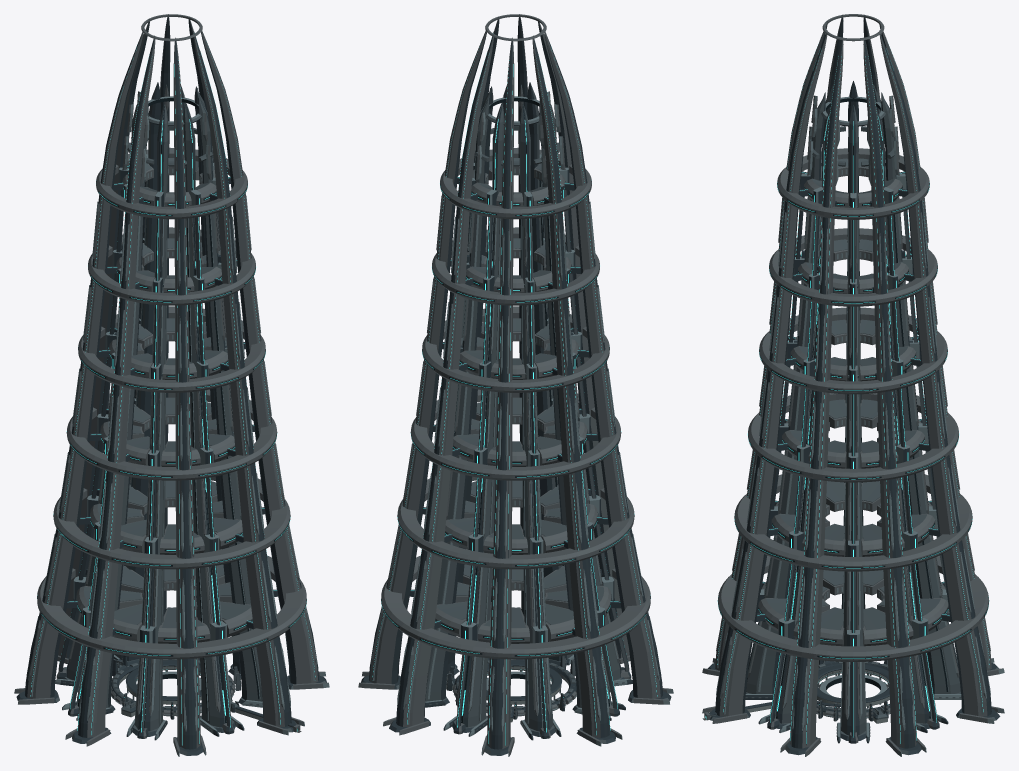
File: Main_Spire_Outer_Ring_Godot.glb
The picture shows the model from 3 angles, left to right: view 1: azimuth 30°, elevation 25°; view 2: azimuth 150°, elevation 25°; view 3: azimuth 270°, elevation 25°; orthographic projection.
Parts seen in each view (by area): view 1: Outer_Arm_07_Main_Monolith, Outer_Arm_05_Main_Monolith, Outer_Arm_04_Main_Monolith, Outer_Arm_06_Main_Monolith, Outer_Arm_08_Main_Monolith, Outer_Connector_Ring_Stage_01, Arm_07_Faceted_Monolith, Arm_08_Faceted_Monolith, Arm_06_Faceted_Monolith, Outer_Connector_Ring_Stage_02, Outer_Arm_03_Main_Monolith, Outer_Connector_Ring_Stage_03 (+22 smaller); view 2: Outer_Arm_02_Main_Monolith, Outer_Arm_04_Main_Monolith, Outer_Arm_05_Main_Monolith, Outer_Arm_03_Main_Monolith, Outer_Arm_01_Main_Monolith, Outer_Connector_Ring_Stage_01, Arm_03_Faceted_Monolith, Arm_02_Faceted_Monolith, Arm_04_Faceted_Monolith, Outer_Connector_Ring_Stage_02, Outer_Arm_06_Main_Monolith, Outer_Connector_Ring_Stage_03 (+22 smaller); view 3: Outer_Arm_02_Main_Monolith, Outer_Arm_07_Main_Monolith, Outer_Arm_01_Main_Monolith, Outer_Arm_08_Main_Monolith, Outer_Connector_Ring_Stage_01, Arm_03_Faceted_Monolith, Arm_07_Faceted_Monolith, Outer_Connector_Ring_Stage_02, Arm_01_Faceted_Monolith, Outer_Connector_Ring_Stage_03, Outer_Connector_Ring_Stage_04, Outer_Connector_Ring_Stage_05 (+23 smaller).
Part boxes in pixels (x1,y1,x2,y2): Outer_Arm_07_Main_Monolith: (194,33,291,725); Outer_Arm_05_Main_Monolith: (78,35,155,737); Outer_Arm_04_Main_Monolith: (25,27,144,698); Outer_Arm_06_Main_Monolith: (173,37,200,749); Outer_Arm_08_Main_Monolith: (199,24,318,684); Outer_Connector_Ring_Stage_01: (37,549,306,659); Arm_07_Faceted_Monolith: (183,102,230,727); Arm_08_Faceted_Monolith: (198,95,262,701); Arm_06_Faceted_Monolith: (135,103,168,731); Outer_Connector_Ring_Stage_02: (53,476,290,569); Outer_Arm_03_Main_Monolith: (58,18,149,658); Outer_Connector_Ring_Stage_03: (67,389,276,480); Outer_Arm_02_Main_Monolith: (396,33,493,726); Outer_Arm_04_Main_Monolith: (532,35,609,737); Outer_Arm_05_Main_Monolith: (543,27,662,698); Outer_Arm_03_Main_Monolith: (487,37,514,749); Outer_Arm_01_Main_Monolith: (369,24,488,684); Outer_Connector_Ring_Stage_01: (381,549,650,659); Arm_03_Faceted_Monolith: (457,102,504,727); Arm_02_Faceted_Monolith: (425,95,489,701); Arm_04_Faceted_Monolith: (519,103,552,731); Outer_Connector_Ring_Stage_02: (397,476,634,569); Outer_Arm_06_Main_Monolith: (538,18,629,658); Outer_Connector_Ring_Stage_03: (411,389,620,480); Outer_Arm_02_Main_Monolith: (879,30,991,716); Outer_Arm_07_Main_Monolith: (715,30,827,715); Outer_Arm_01_Main_Monolith: (863,37,916,748); Outer_Arm_08_Main_Monolith: (790,37,843,748); Outer_Connector_Ring_Stage_01: (718,555,988,661); Arm_03_Faceted_Monolith: (881,92,960,694); Arm_07_Faceted_Monolith: (746,92,825,694); Outer_Connector_Ring_Stage_02: (734,474,972,571); Arm_01_Faceted_Monolith: (841,104,865,735); Outer_Connector_Ring_Stage_03: (748,393,958,482); Outer_Connector_Ring_Stage_04: (759,307,947,394); Outer_Connector_Ring_Stage_05: (769,228,937,306).
Bounding box in the file's own units: 1643 × 4002 × 1643.
